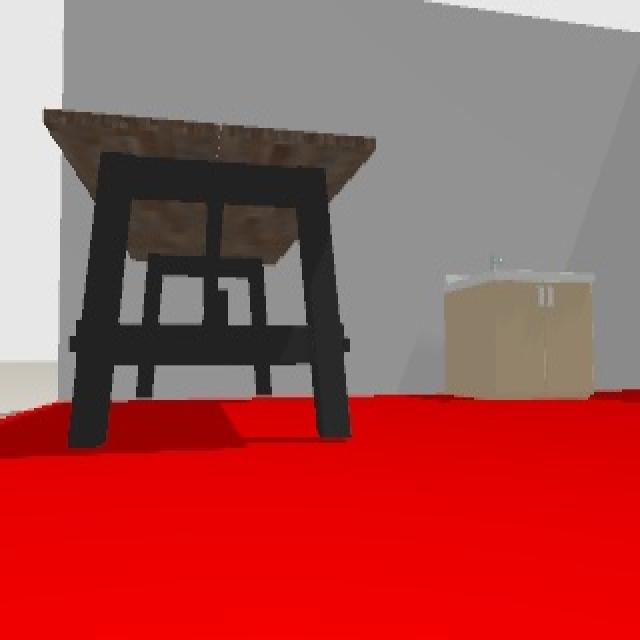dining: (44, 107, 378, 444)
